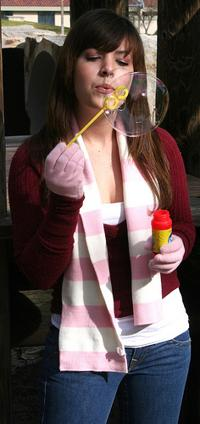person: (8, 5, 194, 424)
